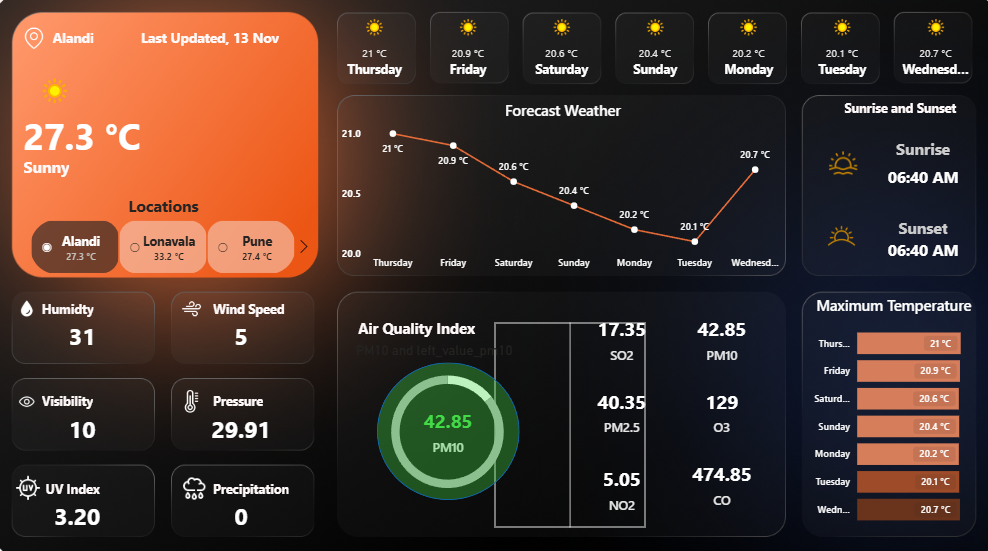

The page's visual inventory and layout, read from the dashboard file:
{"tool":"powerbi","page":{"name":"Page 1","canvas":[1280,720],"ordinal":0},"visuals":[{"type":"advancedSlicerVisual","title":"Locations","fields":{"Values":["location.location.name"]},"box":[23.3,253.9,388.3,105.7],"z":0},{"type":"shape","box":[35.7,142.7,170.2,71.4],"z":1000},{"type":"shape","box":[35.7,182.5,170.2,71.4],"z":2000},{"type":"shape","box":[72.7,27.4,72.7,52.1],"z":3000},{"type":"shape","box":[177,27.4,201.7,52.1],"z":4000},{"type":"image","box":[35.7,34.3,37,39.8],"z":5000},{"type":"cardVisual","fields":{"Data":["Min(current.current.condition.icon)"]},"box":[23.3,64.5,109.8,118],"z":6000},{"type":"shape","box":[60.4,378.7,78.2,41.2],"z":7000},{"type":"image","box":[28.8,382.8,31.6,31.6],"z":8000},{"type":"shape","box":[60.4,496.7,78.2,41.2],"z":9000},{"type":"image","box":[23.3,500.9,41.2,32.9],"z":10000},{"type":"image","box":[23.3,606.5,43.9,42.5],"z":11000},{"type":"shape","box":[64.5,607.9,78.2,41.2],"z":12000},{"type":"image","box":[229.2,381.5,49.4,35.7],"z":13000},{"type":"shape","box":[278.6,378.7,100.2,41.2],"z":14000},{"type":"image","box":[233.3,498.1,39.8,38.4],"z":15000},{"type":"shape","box":[278.6,496.7,78.2,41.2],"z":16000},{"type":"image","box":[234.6,606.5,43.9,43.9],"z":17000},{"type":"shape","box":[278.6,607.9,133.1,41.2],"z":18000},{"type":"card","fields":{"Values":["Sum(current.current.humidity)"]},"box":[43.9,399.3,141.3,71.4],"z":19000},{"type":"card","fields":{"Values":["Sum(current.current.wind_kph)"]},"box":[247,399.3,141.3,71.4],"z":20000},{"type":"card","fields":{"Values":["Sum(current.current.pressure_in)"]},"box":[246.9,517.4,141.1,72],"z":21000},{"type":"card","fields":{"Values":["Sum(current.current.precip_in)"]},"box":[246.9,627.7,141.1,72],"z":22000},{"type":"card","fields":{"Values":["Sum(current.current.uv)"]},"box":[38.2,627.7,141.1,72],"z":23000},{"type":"card","fields":{"Values":["Sum(current.current.vis_km)"]},"box":[44.1,517.4,141.1,72],"z":24000},{"type":"advancedSlicerVisual","fields":{"Values":["forcast_day.Day_name"]},"box":[426.8,15.9,839.1,107.1],"z":25000},{"type":"lineChart","title":"Forecast Weather","fields":{"Y":["Sum(forcast_day.forecast.forecastday.day.avgtemp_c)"],"Category":["forcast_day.Day_name"]},"box":[439.8,133.1,571.4,225.7],"z":26000},{"type":"shape","box":[1082.1,123,154.8,40.5],"z":27000},{"type":"shape","box":[1116.7,266.7,136.4,57.6],"z":28000},{"type":"shape","box":[1116.7,195.5,136.4,71.2],"z":29000},{"type":"shape","box":[1116.7,287.9,136.4,71.2],"z":30000},{"type":"shape","box":[1116.7,166.7,136.4,57.6],"z":31000},{"type":"image","box":[1039.4,190.9,84.8,45.5],"z":32000},{"type":"image","box":[1045.5,278.8,72.7,56.1],"z":33000},{"type":"barChart","title":"Maximum Temperature","fields":{"Category":["forcast_day.Day_name"],"Y":["Sum(forcast_day.forecast.forecastday.day.maxtemp_c)"]},"box":[1029.4,381.4,236.6,306.8],"z":34000},{"type":"shape","box":[462.8,404,176.5,39.8],"z":35000},{"type":"card","fields":{"Values":["Sum(current.current.air_quality.pm10)"]},"box":[884.3,404,89.1,66.8],"z":36000},{"type":"card","fields":{"Values":["Sum(current.current.air_quality.so2)"]},"box":[757.1,404,89.1,66.8],"z":37000},{"type":"card","fields":{"Values":["Sum(current.current.air_quality.o3)"]},"box":[884.3,496.2,89.1,66.8],"z":38000},{"type":"card","fields":{"Values":["Sum(current.current.air_quality.pm2_5)"]},"box":[757.1,496.2,89.1,66.8],"z":39000},{"type":"card","fields":{"Values":["Sum(current.current.air_quality.co)"]},"box":[884.3,588.5,89.1,66.8],"z":40000},{"type":"card","fields":{"Values":["Sum(current.current.air_quality.no2)"]},"box":[757.1,594.8,89.1,66.8],"z":41000},{"type":"shape","box":[639.4,416.7,192.4,260.8],"z":42000},{"type":"card","fields":{"Values":["Sum(current.current.air_quality.pm10)"]},"box":[521.7,502.6,117.7,103.4],"z":43000},{"type":"donutChart","fields":{"Y":["Sum(current.current.air_quality.pm10)","_Measure.left_value_pm10"]},"box":[458.1,442.1,243.3,208.4],"z":44000},{"type":"shape","box":[489.9,467.6,181.3,175],"z":45000}]}

Visuals, with their boxes in screenshot pixels (x1, y1, x2, y2), scaled from the page's 1280x720 canvas onto the 988x551 screenshot:
"Locations" advancedSlicerVisual: box=[18, 194, 318, 275]
shape: box=[28, 109, 159, 164]
shape: box=[28, 140, 159, 194]
shape: box=[56, 21, 112, 61]
shape: box=[137, 21, 292, 61]
image: box=[28, 26, 56, 57]
cardVisual - Min(current.current.condition.icon): box=[18, 49, 103, 140]
shape: box=[47, 290, 107, 321]
image: box=[22, 293, 47, 317]
shape: box=[47, 380, 107, 412]
image: box=[18, 383, 50, 409]
image: box=[18, 464, 52, 497]
shape: box=[50, 465, 110, 497]
image: box=[177, 292, 215, 319]
shape: box=[215, 290, 292, 321]
image: box=[180, 381, 211, 411]
shape: box=[215, 380, 275, 412]
image: box=[181, 464, 215, 498]
shape: box=[215, 465, 318, 497]
card - Sum(current.current.humidity): box=[34, 306, 143, 360]
card - Sum(current.current.wind_kph): box=[191, 306, 300, 360]
card - Sum(current.current.pressure_in): box=[191, 396, 299, 451]
card - Sum(current.current.precip_in): box=[191, 480, 299, 535]
card - Sum(current.current.uv): box=[29, 480, 138, 535]
card - Sum(current.current.vis_km): box=[34, 396, 143, 451]
advancedSlicerVisual - forcast_day.Day_name: box=[329, 12, 977, 94]
"Forecast Weather" lineChart: box=[339, 102, 781, 275]
shape: box=[835, 94, 955, 125]
shape: box=[862, 204, 967, 248]
shape: box=[862, 150, 967, 204]
shape: box=[862, 220, 967, 275]
shape: box=[862, 128, 967, 172]
image: box=[802, 146, 868, 181]
image: box=[807, 213, 863, 256]
"Maximum Temperature" barChart: box=[795, 292, 977, 527]
shape: box=[357, 309, 493, 340]
card - Sum(current.current.air_quality.pm10): box=[683, 309, 751, 360]
card - Sum(current.current.air_quality.so2): box=[584, 309, 653, 360]
card - Sum(current.current.air_quality.o3): box=[683, 380, 751, 431]
card - Sum(current.current.air_quality.pm2_5): box=[584, 380, 653, 431]
card - Sum(current.current.air_quality.co): box=[683, 450, 751, 501]
card - Sum(current.current.air_quality.no2): box=[584, 455, 653, 506]
shape: box=[494, 319, 642, 518]
card - Sum(current.current.air_quality.pm10): box=[403, 385, 494, 464]
donutChart - Sum(current.current.air_quality.pm10) x _Measure.left_value_pm10: box=[354, 338, 541, 498]
shape: box=[378, 358, 518, 492]
